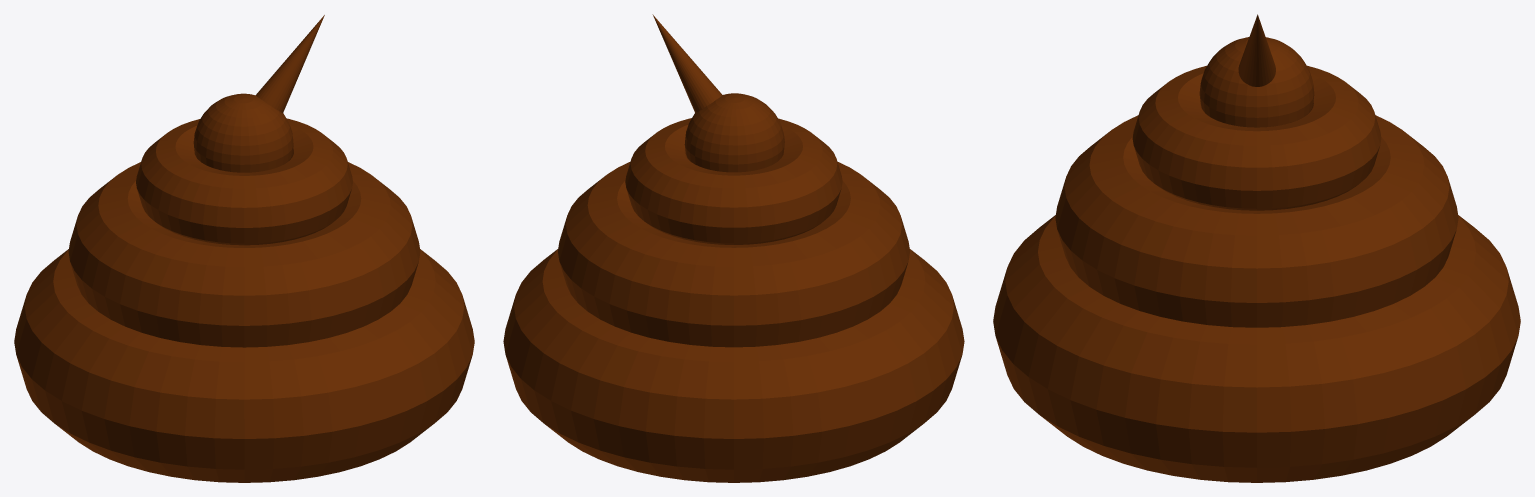
File: poo.fbx
3 renders of one model, left to right at view 1: azimuth 30°, elevation 25°; view 2: azimuth 150°, elevation 25°; view 3: azimuth 270°, elevation 25°, orthographic. The views are drawn at different scales.
Visible parts, largest first — view 1: Cone; view 2: Cone; view 3: Cone.
Boxes of the visible parts, x1=… form: Cone: x1=14, y1=15, x2=474, y2=482; Cone: x1=503, y1=14, x2=964, y2=482; Cone: x1=993, y1=14, x2=1520, y2=482.
Size of the model in its own units: 299 by 270 by 299.
